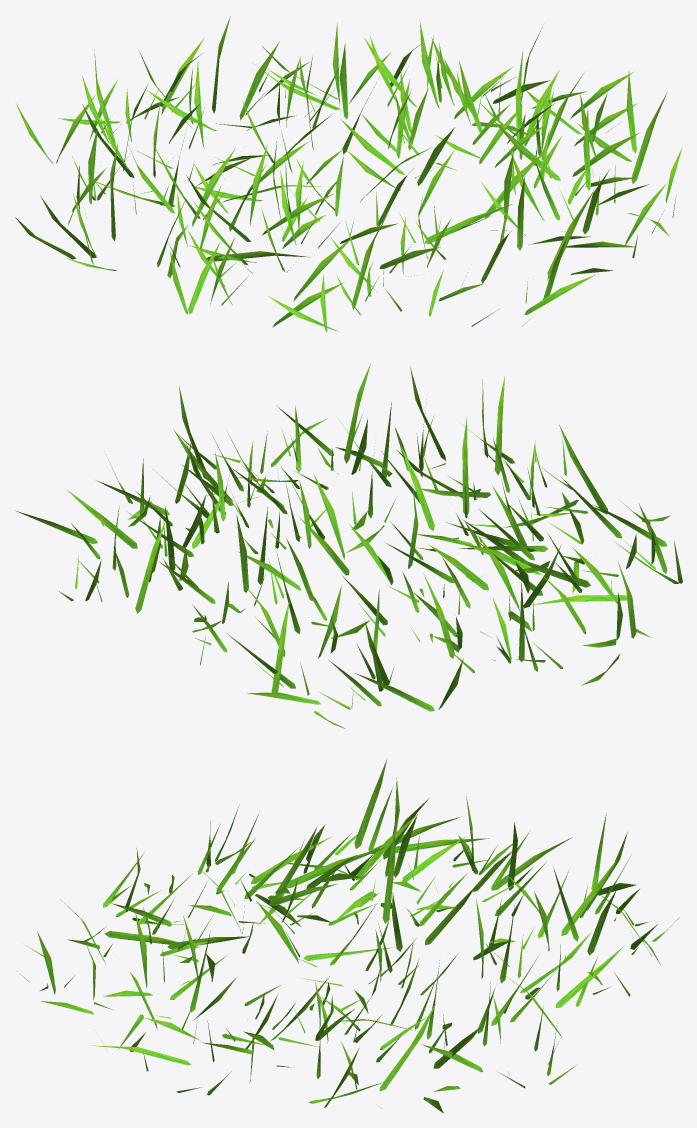
File: Grass_HQ.dae
3 renders of one model, top to bottom at view 1: azimuth 30°, elevation 25°; view 2: azimuth 150°, elevation 25°; view 3: azimuth 270°, elevation 25°, orthographic.
Visible parts, largest first — view 1: Grass.Lod0; view 2: Grass.Lod0; view 3: Grass.Lod0.
Boxes of the visible parts, <box> form: Grass.Lod0: <box>15,16,682,331</box>; Grass.Lod0: <box>15,362,682,728</box>; Grass.Lod0: <box>17,759,679,1113</box>.
Size of what is drawn, in the model's own units: 0.8282 by 0.7896 by 0.1701.
Materials: 1 (1 with a texture image).
